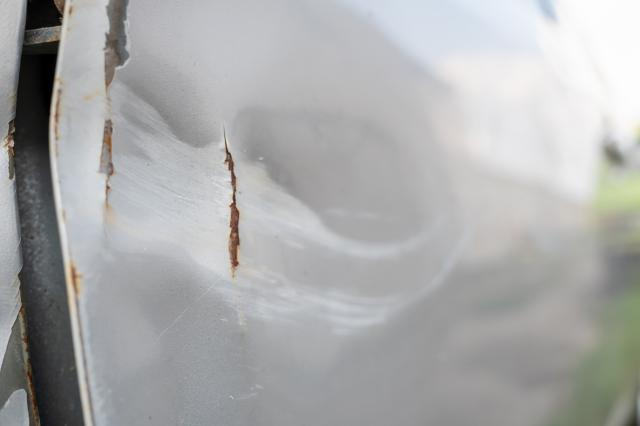dent: (56, 55, 465, 313)
